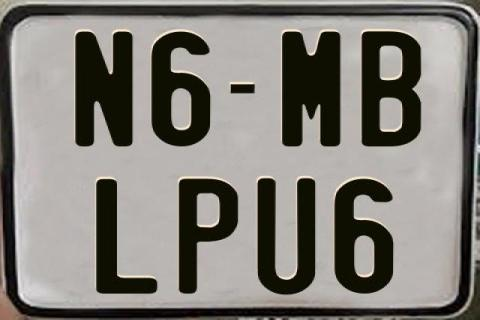0: (333, 177, 398, 293), (148, 31, 212, 147)
B: (362, 32, 426, 152)
L: (96, 177, 157, 296)
M: (280, 30, 342, 148)
N: (73, 30, 132, 146)
P: (177, 178, 241, 294)
U: (256, 177, 320, 297)
